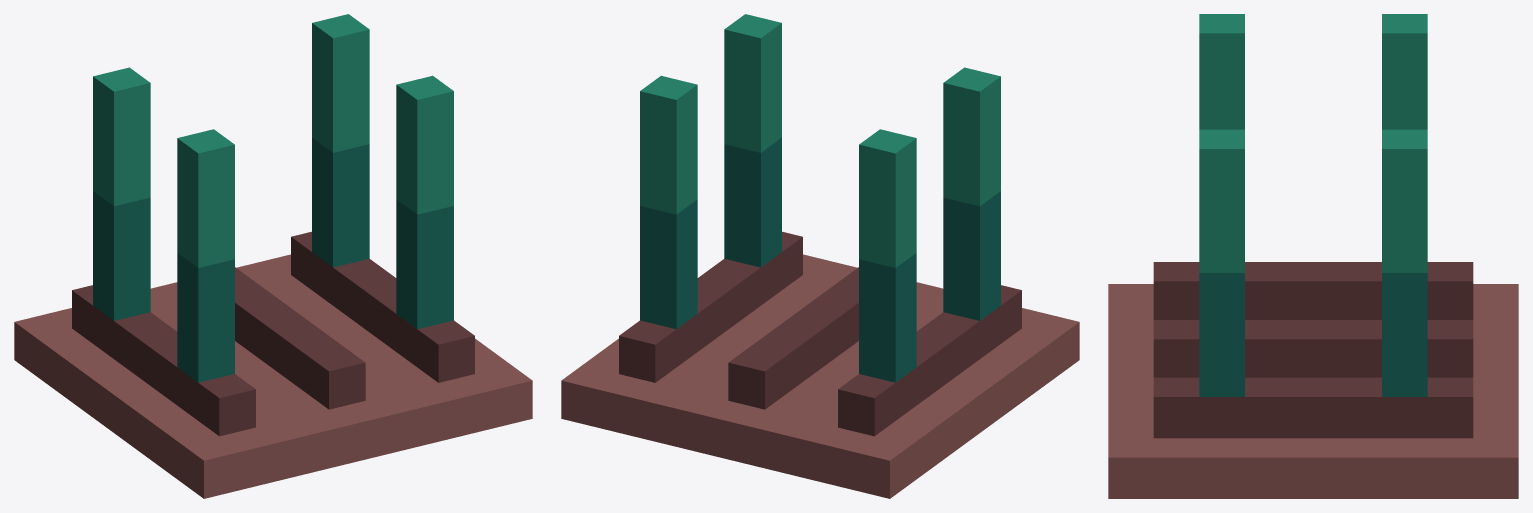
File: Corn 2.obj
3 renders of one model, left to right at view 1: azimuth 30°, elevation 25°; view 2: azimuth 150°, elevation 25°; view 3: azimuth 270°, elevation 25°, orthographic. The views are drawn at different scales.
Bounding box in the file's own units: 0.9 × 0.8 × 0.9.
Materials: 1 (1 with a texture image).
